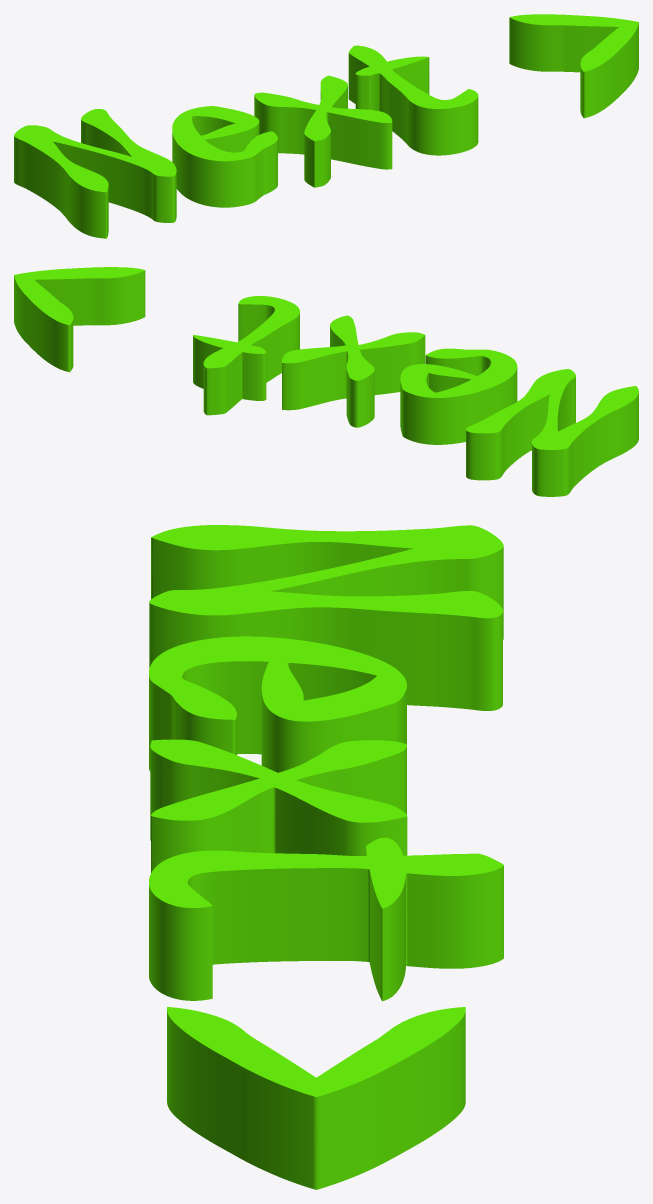
File: text_next_credit_decor.glb
3 views of the same model, one above another, from view 1: azimuth 30°, elevation 25°; view 2: azimuth 150°, elevation 25°; view 3: azimuth 270°, elevation 25° (orthographic). The views are drawn at different scales.
Visible parts, largest first — view 1: Text.008; view 2: Text.008; view 3: Text.008.
Part boxes in pixels (box(x1,y1,x2,y2)): Text.008: box(14, 14, 638, 238); Text.008: box(14, 267, 638, 496); Text.008: box(149, 525, 503, 1189).
Bounding box in the file's own units: 0.9686 × 0.0733 × 0.2542.
